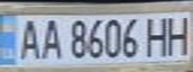0: (103, 16, 124, 60)
6: (121, 16, 145, 58), (84, 16, 106, 58)
8: (66, 17, 90, 59)
A: (12, 16, 42, 61), (36, 16, 66, 60)
H: (163, 12, 193, 56), (142, 14, 172, 57)
